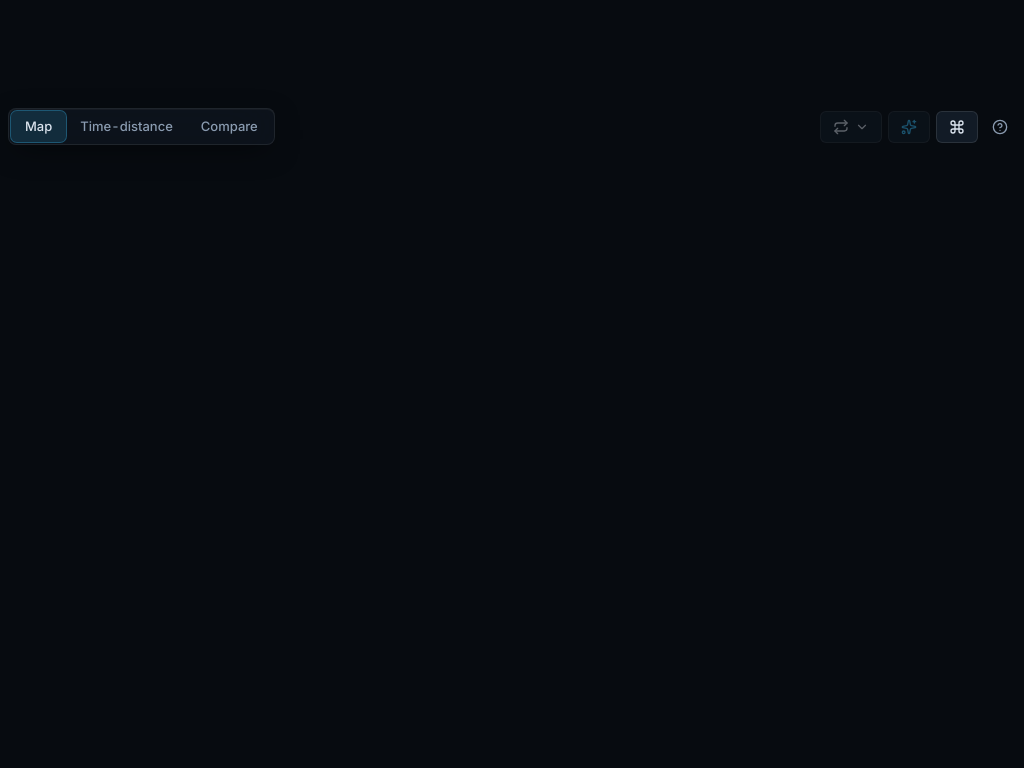
Scenario: time-distance tab › explains what is drawn, including the recording note and the offset-lane note
The width and height of the screenshot is (1024, 768).
Click the tab "Time-distance" at (127, 126), box top-left (66, 111), bottom-right (187, 142)
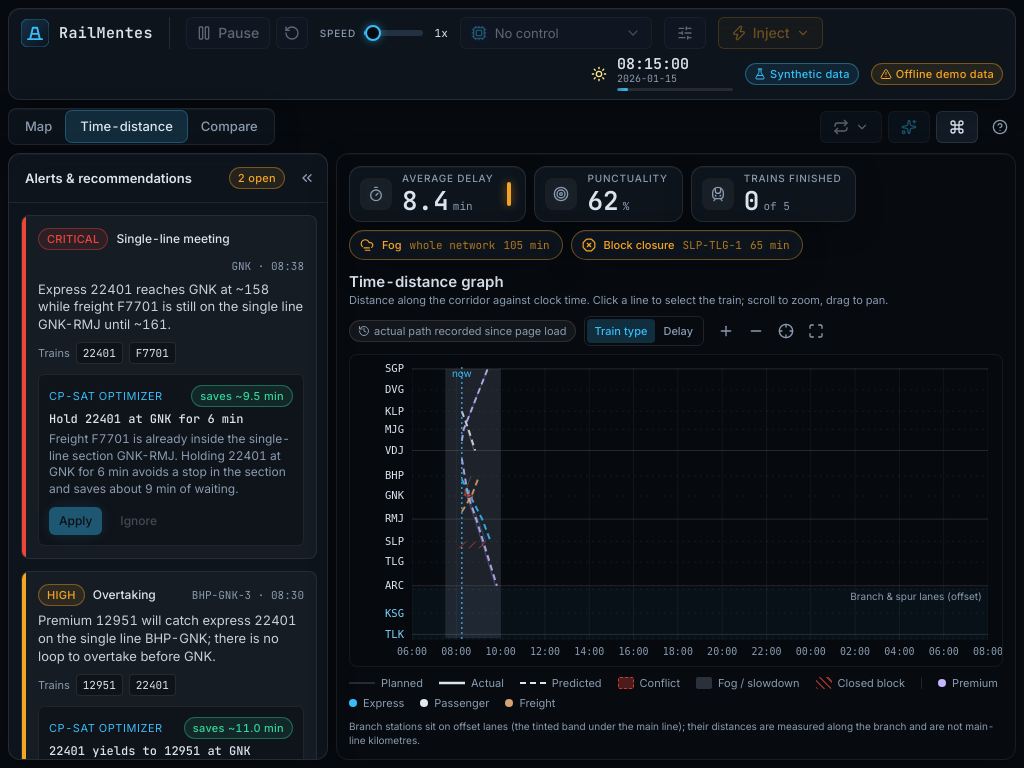
expect the text "actual path recorded since page load" is shown: met, box top-left (349, 320), bottom-right (576, 342)
expect the text "Branch stations sit on offset lanes" is shown: met, box top-left (349, 720), bottom-right (994, 746)
expect the text "Planned" is shown: met, box top-left (349, 675), bottom-right (423, 691)
